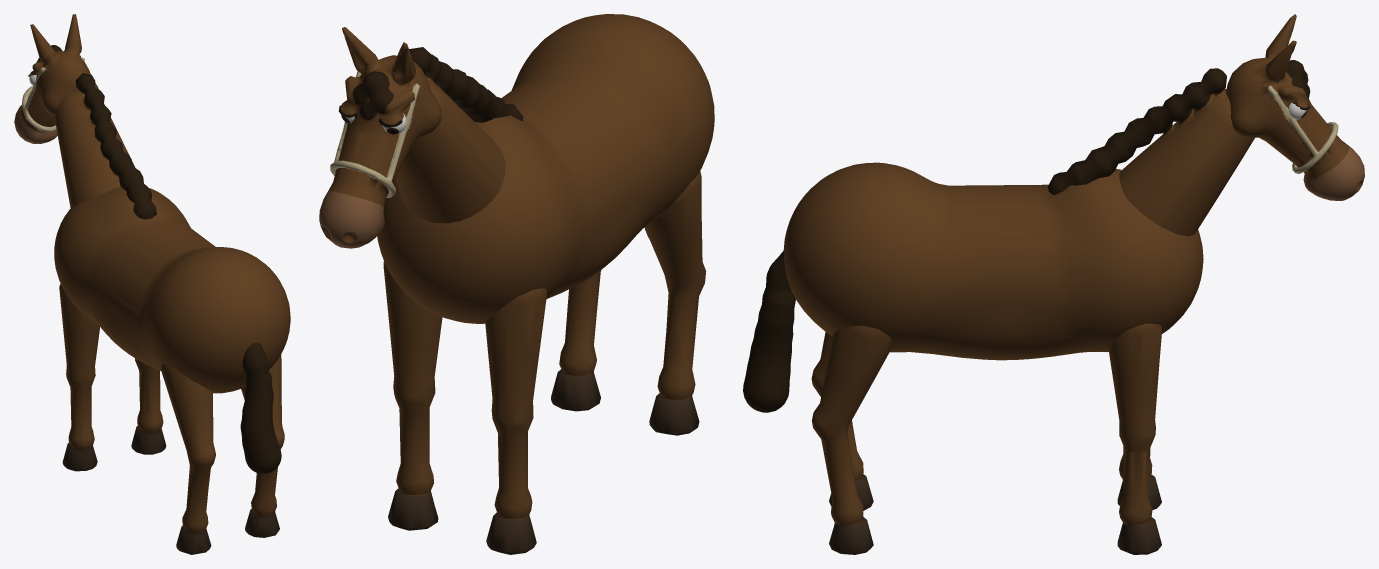
Rendered from horse-bay.glb.
The picture shows the model from 3 angles, left to right: view 1: azimuth 30°, elevation 25°; view 2: azimuth 150°, elevation 25°; view 3: azimuth 270°, elevation 25°; orthographic projection. The views are drawn at different scales.
Parts seen in each view (by area): view 1: body_lod0, neck_lod0, leg_2_lod0, head_lod0, leg_0_lod0, tail_lod0, leg_3_lod0, leg_1_lod0; view 2: body_lod0, head_lod0, neck_lod0, leg_0_lod0, leg_1_lod0, leg_2_lod0, leg_3_lod0; view 3: body_lod0, neck_lod0, head_lod0, leg_3_lod0, leg_1_lod0, tail_lod0, leg_2_lod0.
Part boxes in pixels (box(x1,y1,x2,y2)): body_lod0: box(54, 187, 290, 393); neck_lod0: box(54, 73, 156, 219); leg_2_lod0: box(161, 363, 215, 554); head_lod0: box(14, 14, 98, 143); leg_0_lod0: box(59, 284, 99, 471); tail_lod0: box(240, 342, 281, 473); leg_3_lod0: box(241, 354, 284, 537); leg_1_lod0: box(131, 358, 166, 454); body_lod0: box(377, 14, 714, 323); head_lod0: box(319, 27, 441, 248); neck_lod0: box(395, 47, 523, 223); leg_0_lod0: box(485, 288, 547, 554); leg_1_lod0: box(383, 261, 442, 530); leg_2_lod0: box(644, 171, 706, 435); leg_3_lod0: box(551, 270, 601, 411); body_lod0: box(783, 162, 1203, 360); neck_lod0: box(1048, 68, 1254, 236); head_lod0: box(1226, 14, 1364, 200); leg_3_lod0: box(812, 325, 892, 554); leg_1_lod0: box(1108, 323, 1161, 554); tail_lod0: box(743, 251, 795, 412); leg_2_lod0: box(811, 332, 873, 510).
Size of what is drawn, in the model's own units: 0.9409 by 2.84 by 3.22.
